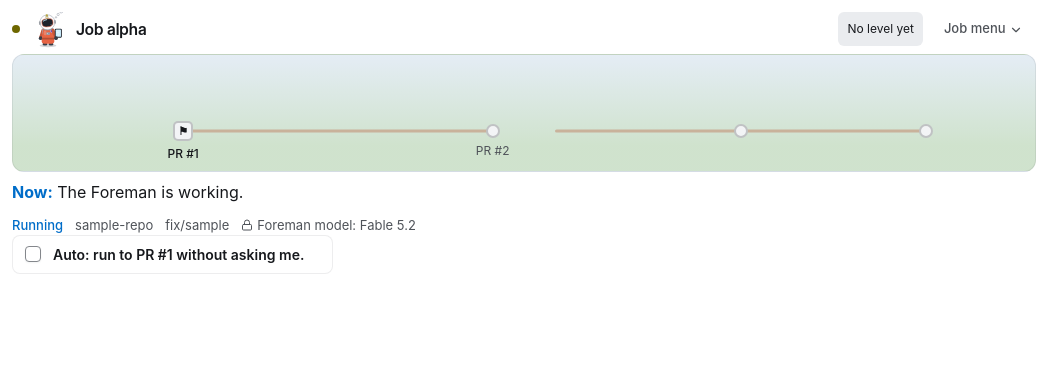
the Foreman model line › the model shows as locked words, with what to do to change it
The width and height of the screenshot is (1048, 384).
Check: the text "Foreman model: Fable 5.2" is shown, box [241, 216, 416, 235]
Check: the icon next to "Foreman model:" is shown, box [241, 219, 253, 231]
The job menu offers Change model….
Step 1. Click the button "Job menu" → click(983, 29), box [931, 12, 1036, 46]
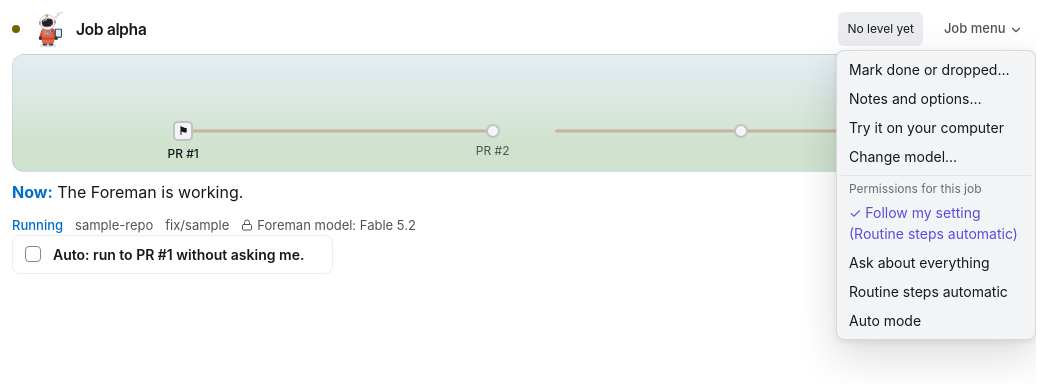
Check: the button "Change model…" is enabled, box [841, 142, 1031, 171]
